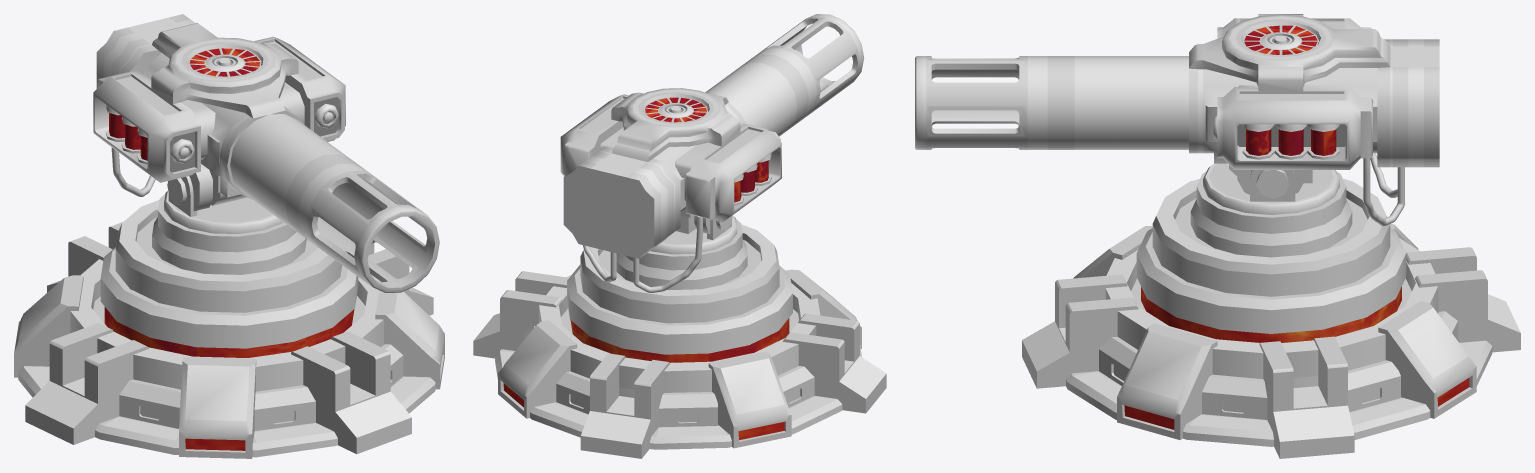
File: Flamethrower turret.fbx
3 views of the same model, side by side, from view 1: azimuth 30°, elevation 25°; view 2: azimuth 150°, elevation 25°; view 3: azimuth 270°, elevation 25° (orthographic). The views are drawn at different scales.
Parts seen in each view (by area): view 1: Static base, Flame turret, Rotating base; view 2: Static base, Flame turret, Rotating base; view 3: Static base, Flame turret, Rotating base.
Part boxes in pixels (x1,y1,x2,y2): Static base: [14, 194, 444, 458]; Flame turret: [93, 14, 439, 292]; Rotating base: [164, 176, 283, 233]; Static base: [473, 219, 886, 458]; Flame turret: [560, 14, 864, 292]; Rotating base: [650, 215, 737, 254]; Static base: [1022, 171, 1520, 458]; Flame turret: [915, 14, 1439, 226]; Rotating base: [1203, 163, 1339, 214].
Bounding box in the file's own units: 226 × 158 × 274.
